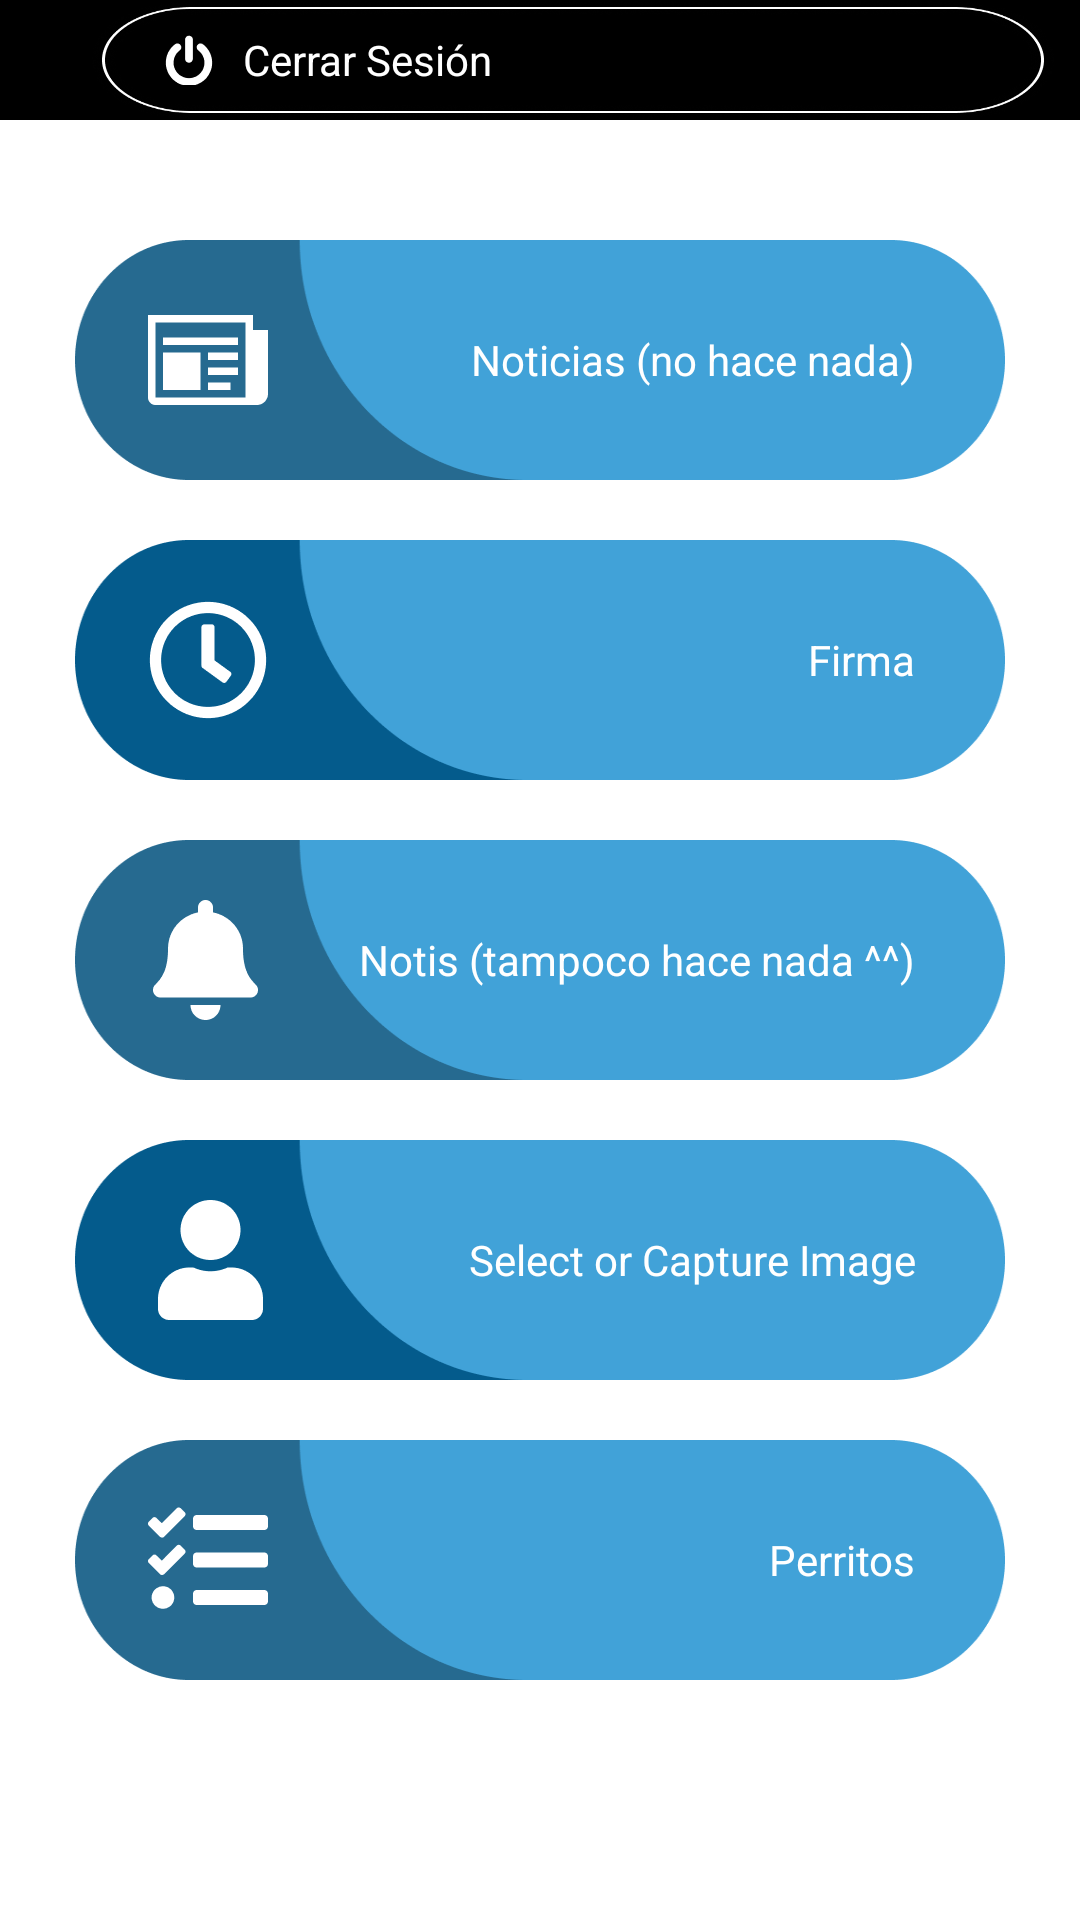

Screen size 1080*1920. Icon name, then its center in pixels as (x,y):
checkin: (208,660)
notification: (205,960)
poweroff: (189,60)
task: (208,1558)
usuario icm: (210,1260)
